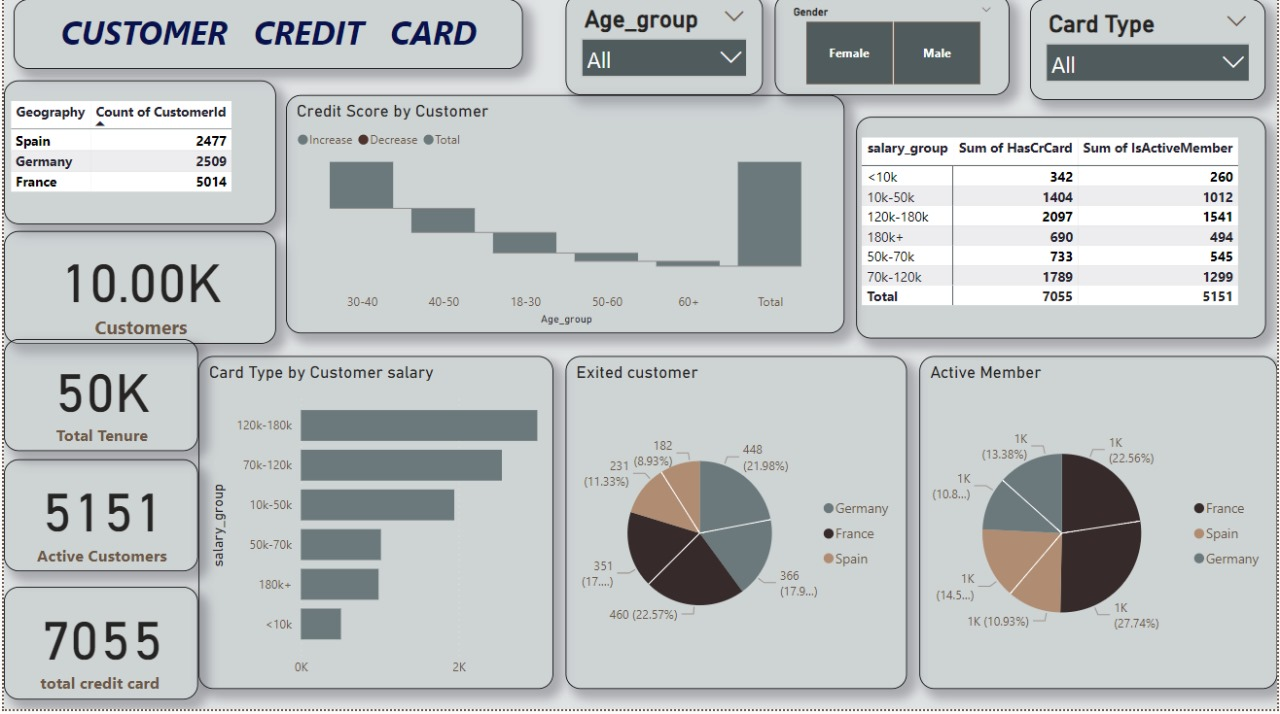

The page's visual inventory and layout, read from the dashboard file:
{"tool":"powerbi","page":{"name":"Page 1","canvas":[1280,720],"ordinal":0},"visuals":[{"type":"textbox","box":[10,5,511.7,70],"z":0},{"type":"tableEx","fields":{"Values":["Customer-Churn-Records.Geography","CountNonNull(Customer-Churn-Records.CustomerId)"]},"box":[0,86.7,273.3,145],"z":1000},{"type":"barChart","title":"Card Type by Customer salary","fields":{"Category":["Customer-Churn-Records.salary_group"],"Y":["CountNonNull(Customer-Churn-Records.Card Type)"]},"box":[195,364,356.7,335],"z":2000},{"type":"pieChart","title":"Exited customer ","fields":{"Y":["Sum(Customer-Churn-Records.Exited)"],"Category":["Customer-Churn-Records.Geography"],"Series":["Customer-Churn-Records.Gender"]},"box":[565,364,343.3,335],"z":3000},{"type":"pieChart","title":"Active Member ","fields":{"Category":["Customer-Churn-Records.Geography"],"Y":["Sum(Customer-Churn-Records.IsActiveMember)"],"Series":["Customer-Churn-Records.Gender"]},"box":[920,364,360,335],"z":4000},{"type":"slicer","fields":{"Values":["Customer-Churn-Records.Gender"]},"box":[775,0,236,101.7],"z":5000},{"type":"card","fields":{"Values":["CountNonNull(Customer-Churn-Records.CustomerId)"]},"box":[0,238.3,273.3,113.3],"z":6000},{"type":"card","fields":{"Values":["Sum(Customer-Churn-Records.HasCrCard)"]},"box":[0,597,195,113.3],"z":7000},{"type":"card","fields":{"Values":["Sum(Customer-Churn-Records.IsActiveMember)"]},"box":[0,468.3,195,113],"z":8000},{"type":"slicer","fields":{"Values":["Customer-Churn-Records.Card Type"]},"box":[1031.7,5,236.7,101.7],"z":9000},{"type":"pivotTable","fields":{"Rows":["Customer-Churn-Records.salary_group"],"Values":["Sum(Customer-Churn-Records.HasCrCard)","Sum(Customer-Churn-Records.IsActiveMember)"]},"box":[856.7,123.3,411.7,223.3],"z":10000},{"type":"card","fields":{"Values":["Sum(Customer-Churn-Records.Tenure)"]},"box":[0,346.7,195,113],"z":11000},{"type":"slicer","fields":{"Values":["Customer-Churn-Records.Age_group"]},"box":[565,0,198.3,101.7],"z":12000},{"type":"waterfallChart","title":"Credit Score by Customer","fields":{"Y":["Sum(Customer-Churn-Records.CreditScore)"],"Category":["Customer-Churn-Records.Age_group"]},"box":[283.3,101.7,561.7,240],"z":13000}]}

Visuals, with their boxes in screenshot pixels (x1, y1, x2, y2), scaled from the page's 1280x720 canvas onto the 1280x714 screenshot:
textbox: rect(10, 5, 522, 74)
tableEx - Customer-Churn-Records.Geography x CountNonNull(Customer-Churn-Records.CustomerId): rect(0, 86, 273, 230)
"Card Type by Customer salary" barChart: rect(195, 361, 552, 693)
"Exited customer " pieChart: rect(565, 361, 908, 693)
"Active Member " pieChart: rect(920, 361, 1279, 693)
slicer - Customer-Churn-Records.Gender: rect(775, 0, 1011, 101)
card - CountNonNull(Customer-Churn-Records.CustomerId): rect(0, 236, 273, 349)
card - Sum(Customer-Churn-Records.HasCrCard): rect(0, 592, 195, 704)
card - Sum(Customer-Churn-Records.IsActiveMember): rect(0, 464, 195, 576)
slicer - Customer-Churn-Records.Card Type: rect(1032, 5, 1268, 106)
pivotTable - Customer-Churn-Records.salary_group x Sum(Customer-Churn-Records.HasCrCard): rect(857, 122, 1268, 344)
card - Sum(Customer-Churn-Records.Tenure): rect(0, 344, 195, 456)
slicer - Customer-Churn-Records.Age_group: rect(565, 0, 763, 101)
"Credit Score by Customer" waterfallChart: rect(283, 101, 845, 339)
